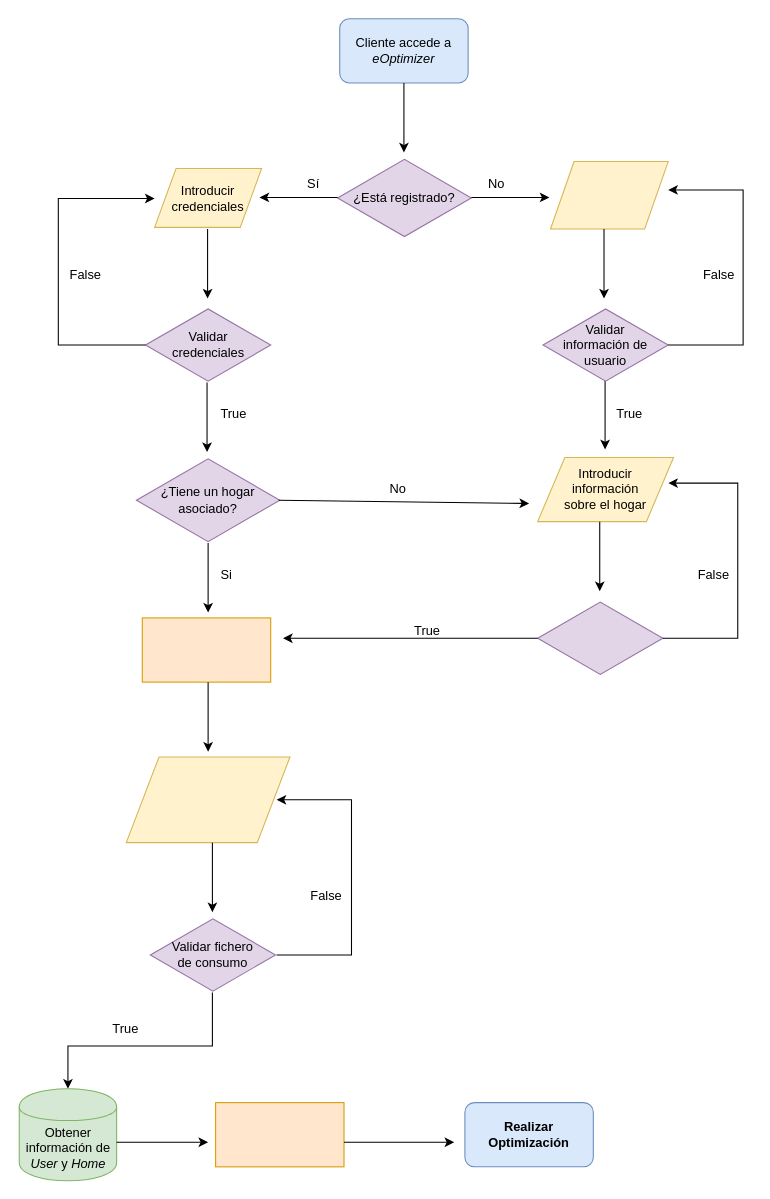
Image size: 770x1199. Some labels were removed from this diagram. Here are the shapes that lost their labels. From the top down, the centre of each, then its label:
At pixel 608 194: "Introducir información de usuario".
At pixel 206 649: "Acceder al Dashboard".
At pixel 600 638: "Validar información de hogar".
At pixel 207 799: "Introducir información para simulación (fecha y fichero de consumo)".
At pixel 279 1134: "Obtener información de APIs".
